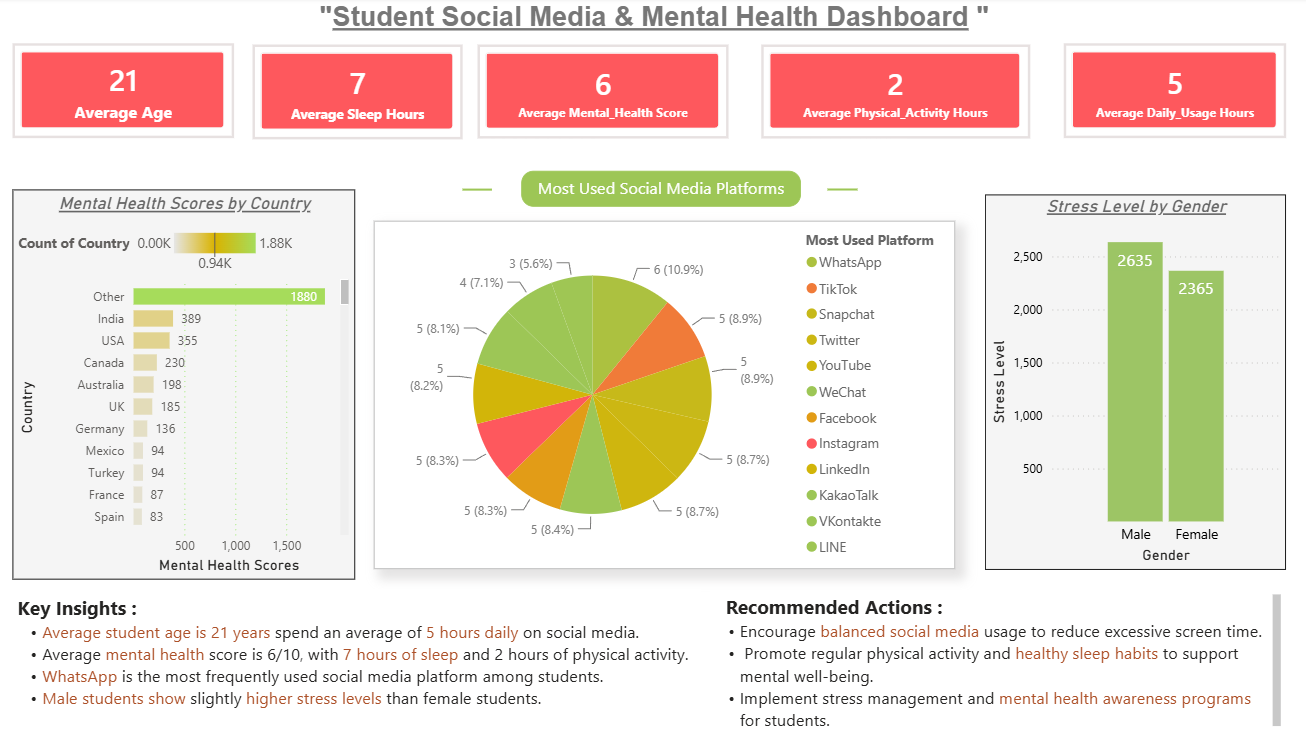

Layout of this report page (visuals, bound fields, positions):
{"tool":"powerbi","page":{"name":"Overview","canvas":[1280,720],"ordinal":0},"visuals":[{"type":"textbox","box":[272.5,0,734.9,45.2],"z":0},{"type":"cardVisual","fields":{"Data":["Student Social Media And Mental.Average Age"]},"box":[12.2,45.2,216.4,92.9],"z":1000},{"type":"cardVisual","fields":{"Data":["Student Social Media And Mental.Average Daily_Usage Hours"]},"box":[1040.6,45.2,217.7,92.9],"z":2000},{"type":"cardVisual","fields":{"Data":["Student Social Media And Mental.Average Sleep Hours"]},"box":[247,46.5,205.4,92.9],"z":3000},{"type":"cardVisual","fields":{"Data":["Student Social Media And Mental.Average Mental_Health Score"]},"box":[467.1,46.5,245.8,91.7],"z":4000},{"type":"cardVisual","fields":{"Data":["Student Social Media And Mental.Average Physical_Activity Hours"]},"box":[744.7,46.5,262.9,91.7],"z":5000},{"type":"pieChart","fields":{"Category":["Student Social Media And Mental.Most_Used_Platform"],"Y":["Avg(Student Social Media And Mental.Avg_Daily_Usage_Hours)"]},"box":[365.6,218.9,568.6,341.2],"z":6000},{"type":"textbox","box":[509.9,170,273.9,35.5],"z":7000},{"type":"shape","box":[452.4,183.4,29,10],"z":8000},{"type":"shape","box":[809.5,181,29.3,14.7],"z":9000},{"type":"clusteredBarChart","fields":{"Y":["CountNonNull(Student Social Media And Mental.Mental_Health_Score)"],"Category":["Student Social Media And Mental.Country"]},"box":[12.2,188.3,335.1,381.5],"z":10000},{"type":"lineStackedColumnComboChart","fields":{"Category":["Student Social Media And Mental.Gender"],"Y":["CountNonNull(Student Social Media And Mental.Stress_Level)"]},"box":[963.6,193.2,294.7,366.8],"z":11000},{"type":"textbox","box":[12.2,579.4,673.8,140.6],"z":12000},{"type":"textbox","box":[694.6,579.4,563.7,140.6],"z":13000}]}

Visuals, with their boxes in screenshot pixels (x1, y1, x2, y2), scaled from the page's 1280x720 canvas onto the 1306x732 screenshot:
textbox: <box>278,0,1028,46</box>
cardVisual - Student Social Media And Mental.Average Age: <box>12,46,233,140</box>
cardVisual - Student Social Media And Mental.Average Daily_Usage Hours: <box>1062,46,1284,140</box>
cardVisual - Student Social Media And Mental.Average Sleep Hours: <box>252,47,462,142</box>
cardVisual - Student Social Media And Mental.Average Mental_Health Score: <box>477,47,727,141</box>
cardVisual - Student Social Media And Mental.Average Physical_Activity Hours: <box>760,47,1028,141</box>
pieChart - Student Social Media And Mental.Most_Used_Platform x Avg(Student Social Media And Mental.Avg_Daily_Usage_Hours): <box>373,223,953,569</box>
textbox: <box>520,173,800,209</box>
shape: <box>462,186,491,197</box>
shape: <box>826,184,856,199</box>
clusteredBarChart - CountNonNull(Student Social Media And Mental.Mental_Health_Score) x Student Social Media And Mental.Country: <box>12,191,354,579</box>
lineStackedColumnComboChart - Student Social Media And Mental.Gender x CountNonNull(Student Social Media And Mental.Stress_Level): <box>983,196,1284,569</box>
textbox: <box>12,589,700,731</box>
textbox: <box>709,589,1284,731</box>
